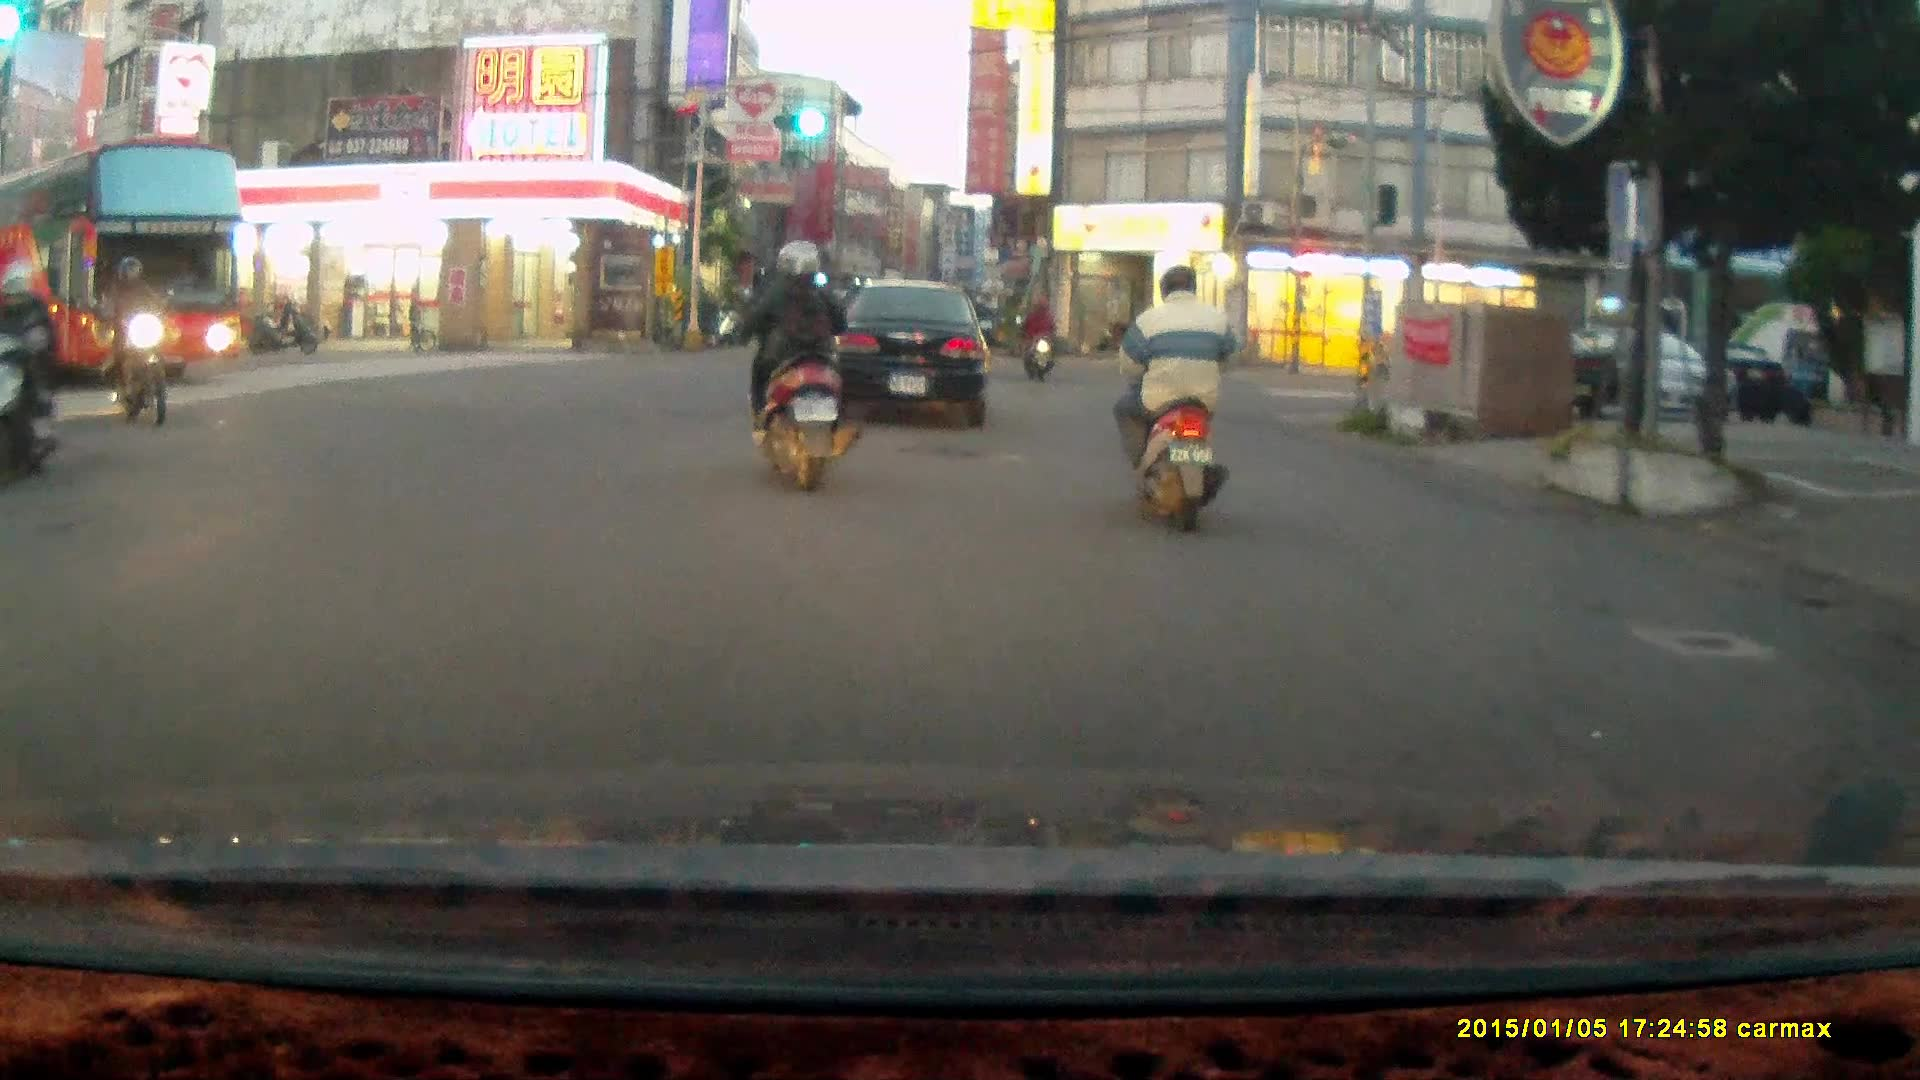rider: (736, 233, 862, 492), (1109, 261, 1226, 536), (0, 263, 61, 498), (95, 252, 170, 430), (1019, 294, 1057, 379)
vehicle: (1, 144, 237, 394), (1500, 314, 1741, 419)
